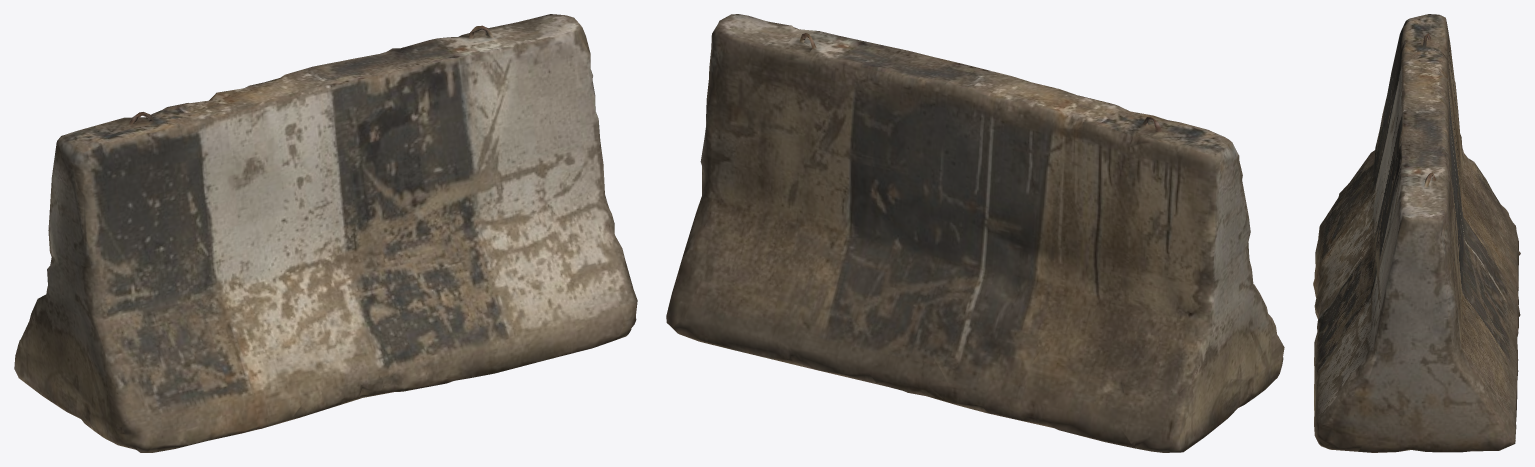
The model's file is barrier_concrete.glb.
3 views of the same model, side by side, from view 1: azimuth 30°, elevation 25°; view 2: azimuth 150°, elevation 25°; view 3: azimuth 270°, elevation 25° (orthographic). The views are drawn at different scales.
Visible parts, largest first — view 1: concrete_road_barrier; view 2: concrete_road_barrier; view 3: concrete_road_barrier.
Part boxes in pixels (box(x1,y1,x2,y2)): concrete_road_barrier: box(14, 14, 637, 452); concrete_road_barrier: box(666, 14, 1284, 452); concrete_road_barrier: box(1313, 14, 1520, 452).
Bounding box in the file's own units: 1.54 × 0.8299 × 0.6387.
1 material, 1 textured.
